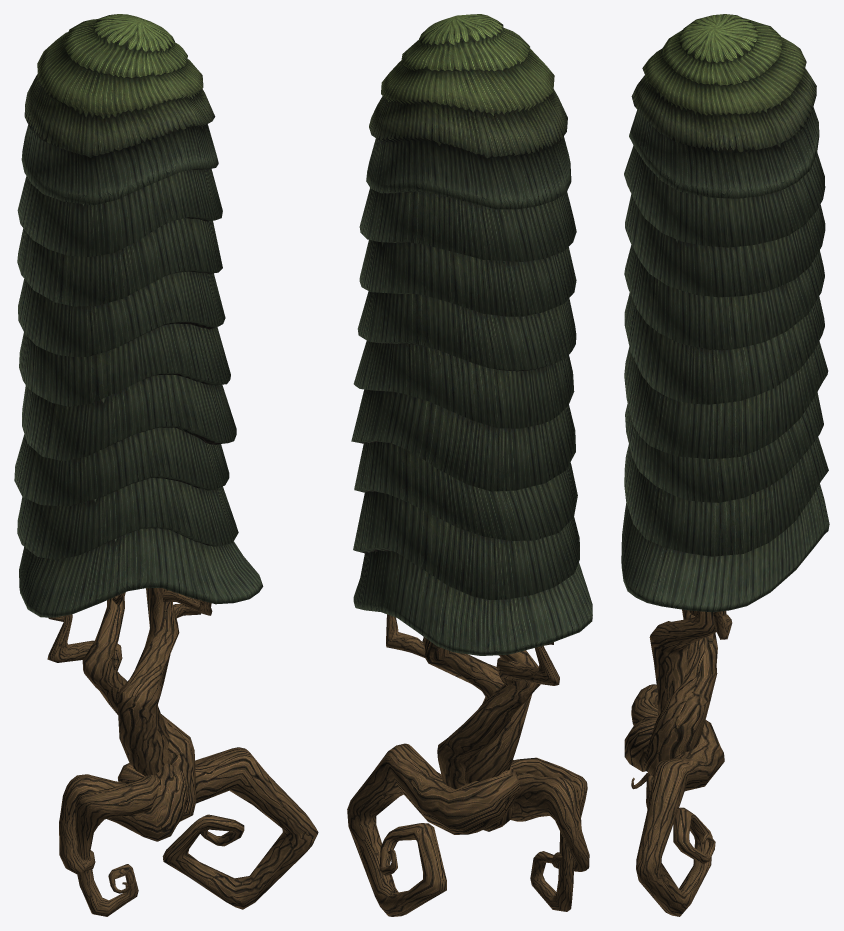
File: Tree.fbx
3 views of the same model, side by side, from view 1: azimuth 30°, elevation 25°; view 2: azimuth 150°, elevation 25°; view 3: azimuth 270°, elevation 25° (orthographic). The views are drawn at different scales.
Visible parts, largest first — view 1: node_id31, node_id33; view 2: node_id31, node_id33; view 3: node_id31, node_id33.
Boxes of the visible parts, x1,y1,x2,y2 form: node_id31: (14,14,263,617); node_id33: (47,588,318,916); node_id31: (351,14,592,655); node_id33: (347,614,589,916); node_id31: (621,14,829,612); node_id33: (624,609,732,916).
Size of the model in its own units: 0.152 by 0.512 by 0.1136.
Materials: 2 (2 with a texture image).
